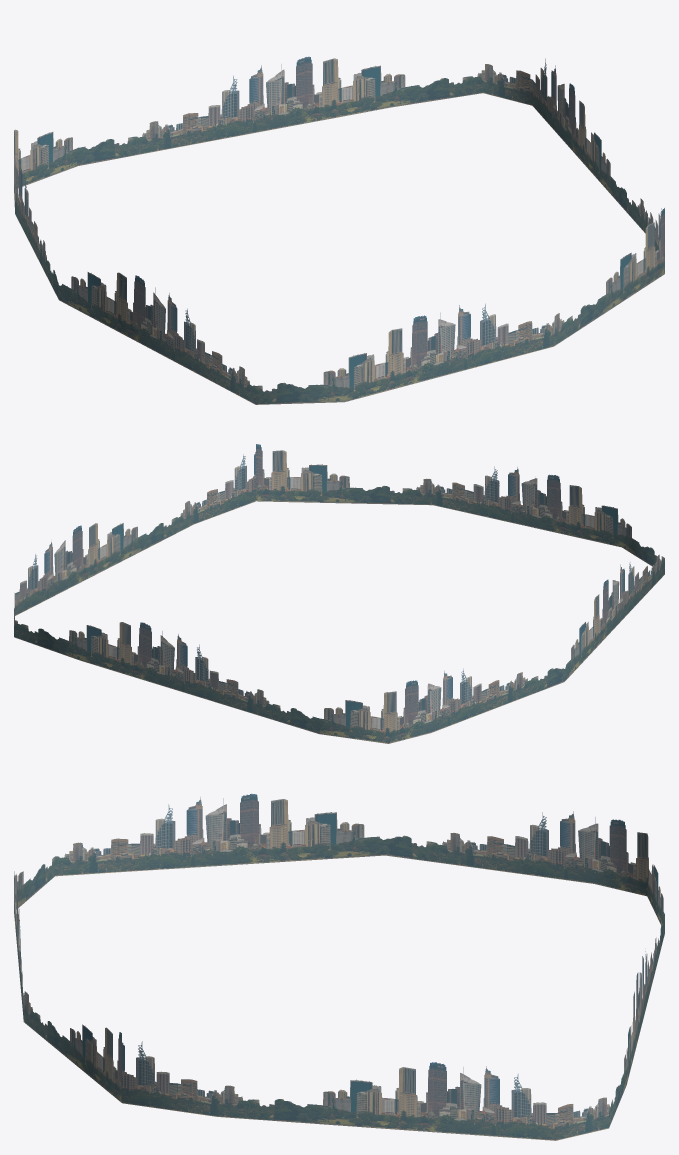
File: Background_Tokyo_01.FBX
3 views of the same model, one above another, from view 1: azimuth 30°, elevation 25°; view 2: azimuth 150°, elevation 25°; view 3: azimuth 270°, elevation 25° (orthographic). The views are drawn at different scales.
Visible parts, largest first — view 1: Background_Tokyo_01; view 2: Background_Tokyo_01; view 3: Background_Tokyo_01.
Boxes of the visible parts, left/top/right/bottom form: Background_Tokyo_01: left=14, top=56, right=664, bottom=404; Background_Tokyo_01: left=14, top=444, right=664, bottom=743; Background_Tokyo_01: left=14, top=793, right=664, bottom=1140.
Bounding box in the file's own units: 92060 × 12556 × 88755.
